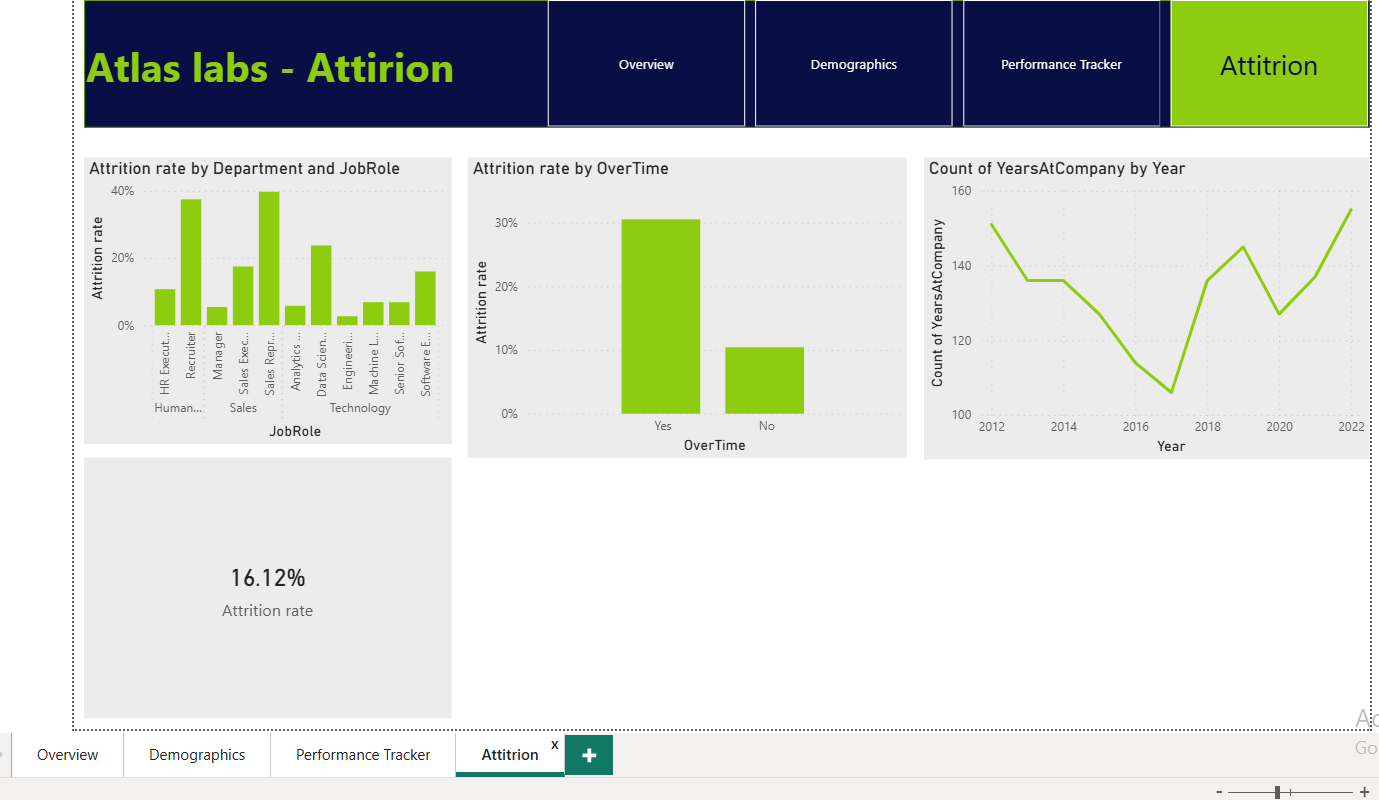

The dashboard page shown, as its layout file describes it:
{"tool":"powerbi","page":{"name":"Attitrion","canvas":[1280,720],"ordinal":3},"visuals":[{"type":"shape","box":[9.6,0,1270.7,126.2],"z":0},{"type":"pageNavigator","box":[468.2,0,811.7,125.9],"z":1000},{"type":"clusteredColumnChart","fields":{"Y":["Employee.Attrition rate"],"Category":["Employee.Department","Employee.JobRole"]},"box":[9.8,155.2,363.1,283.6],"z":2000},{"type":"lineChart","fields":{"Y":["CountNonNull(Employee.YearsAtCompany)"],"Category":["Employee.HireDate.Variation.Date Hierarchy.Year"]},"box":[839.8,155.2,440.1,298.3],"z":3000},{"type":"columnChart","fields":{"Y":["Employee.Attrition rate"],"Category":["Employee.OverTime"]},"box":[388.7,155.2,434,297],"z":4000},{"type":"card","fields":{"Values":["Employee.Attrition rate"]},"box":[9.8,452.3,363.1,257.9],"z":5000}]}

Visuals, with their boxes on the page's 1280x720 design canvas (x1, y1, x2, y2). These are canvas units, not pixel positions in the 1379x800 screenshot, which may show the page scaled, cropped or inside an application window:
shape: crop(10, 0, 1280, 126)
pageNavigator: crop(468, 0, 1280, 126)
clusteredColumnChart - Employee.Attrition rate x Employee.Department: crop(10, 155, 373, 439)
lineChart - CountNonNull(Employee.YearsAtCompany) x Employee.HireDate.Variation.Date Hierarchy.Year: crop(840, 155, 1280, 454)
columnChart - Employee.Attrition rate x Employee.OverTime: crop(389, 155, 823, 452)
card - Employee.Attrition rate: crop(10, 452, 373, 710)
